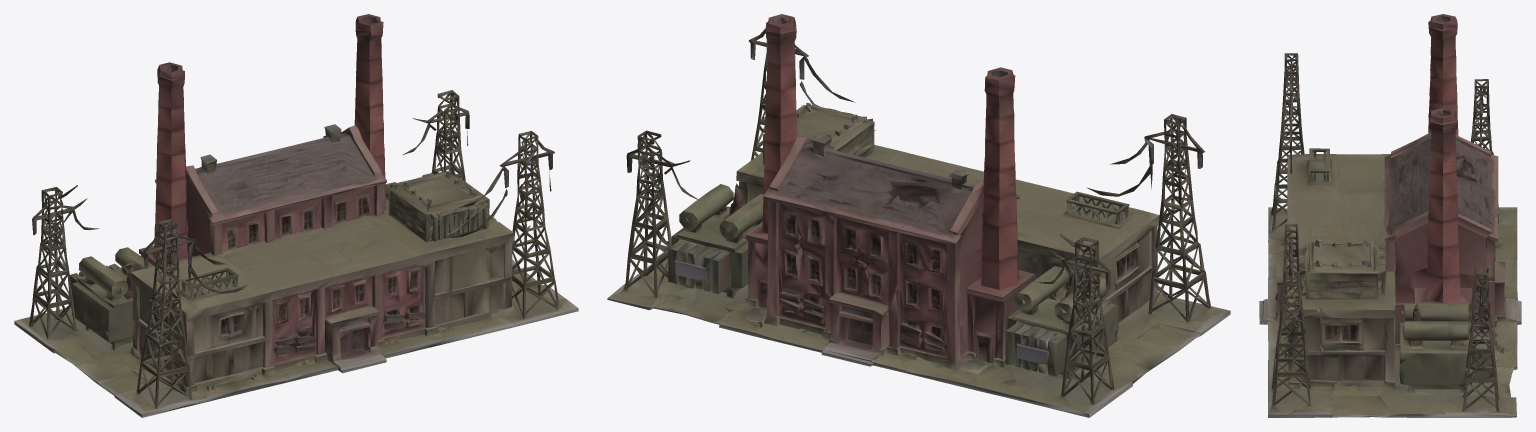
Rendered from power_plant_idle.glb.
3 views of the same model, side by side, from view 1: azimuth 30°, elevation 25°; view 2: azimuth 150°, elevation 25°; view 3: azimuth 270°, elevation 25° (orthographic). The views are drawn at different scales.
Parts seen in each view (by area): view 1: tripo_node_bd69c996-dfa2-4ae3-bab1-57d8064ca6c3; view 2: tripo_node_bd69c996-dfa2-4ae3-bab1-57d8064ca6c3; view 3: tripo_node_bd69c996-dfa2-4ae3-bab1-57d8064ca6c3.
Boxes of the visible parts, bbox=[...] form: tripo_node_bd69c996-dfa2-4ae3-bab1-57d8064ca6c3: bbox=[14, 14, 578, 417]; tripo_node_bd69c996-dfa2-4ae3-bab1-57d8064ca6c3: bbox=[607, 14, 1230, 417]; tripo_node_bd69c996-dfa2-4ae3-bab1-57d8064ca6c3: bbox=[1259, 14, 1521, 417].
Size of the model in its own units: 19.72 by 11 by 10.53.
1 material, 1 textured.
